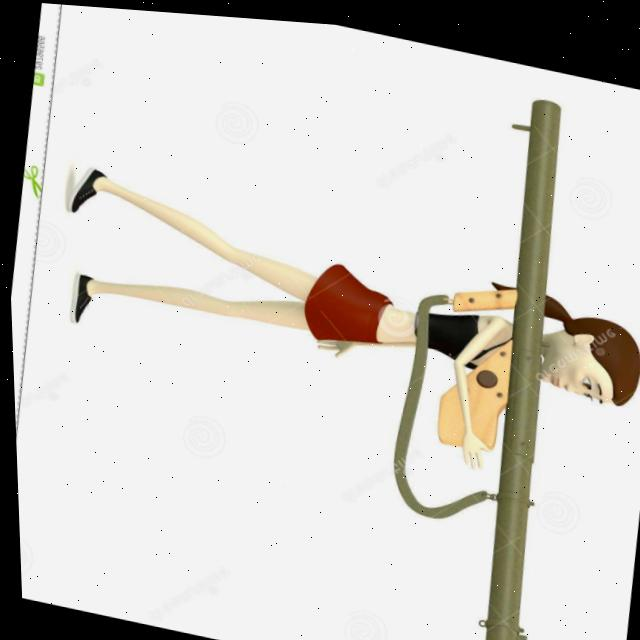rocket: (432, 79, 604, 640)
